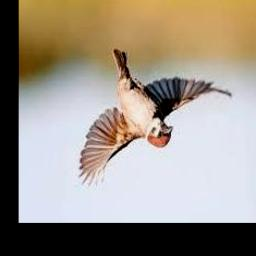Sparrow: (77, 50, 232, 190)
